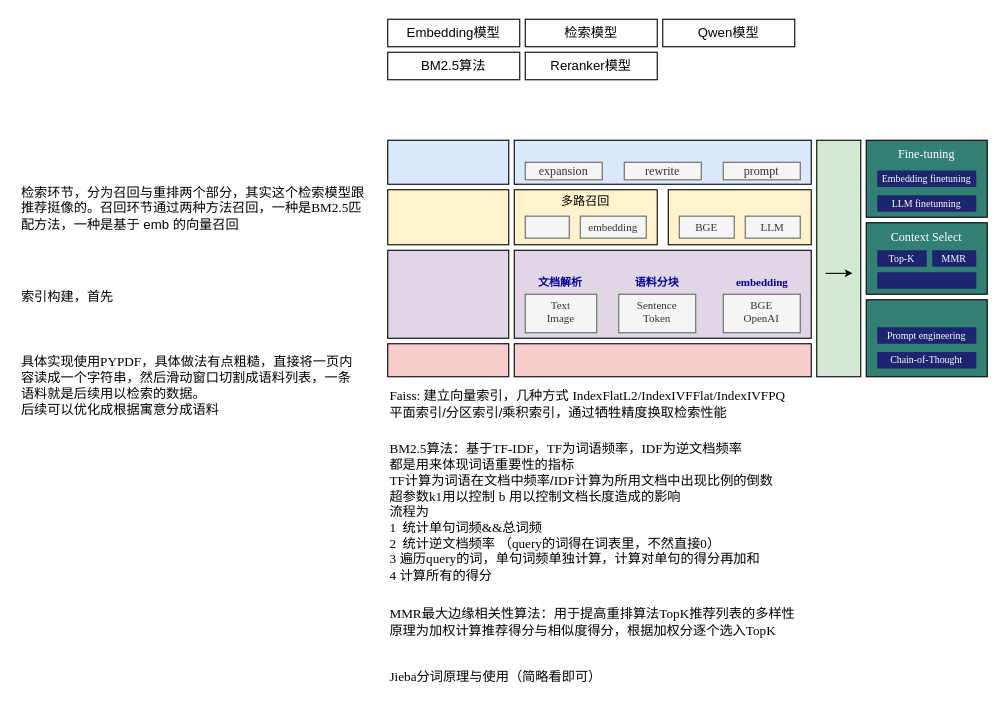
The diagram is 1007 pixels wide and 715 high, and some of its shapes have lost their labels. Each missing label, with the box of its shape:
BM2.5: (524, 215, 569, 238)
Inference: (865, 299, 987, 377)
Similarity: (877, 272, 976, 288)
向量数据库构建（基于 Faiss ）: (513, 249, 811, 338)
文件处理 Source: (387, 343, 509, 377)
文档读取加载（ PYPDF ）: (513, 343, 811, 377)
检索环节 Retrieval: (387, 189, 509, 245)
生成 回答: (816, 139, 861, 377)
索引构建 Index: (387, 249, 509, 338)
重排算法: (667, 189, 811, 245)
问询环节 Query: (387, 139, 509, 184)
问询生成: (513, 139, 811, 184)
